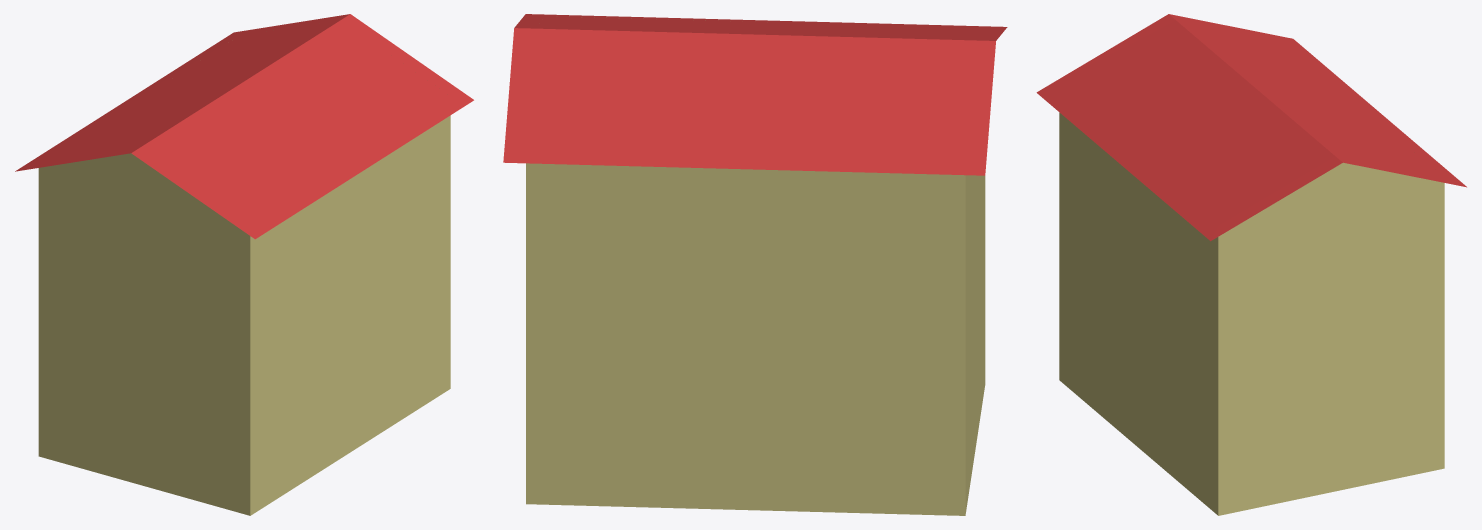
3 views of the same model, side by side, from view 1: azimuth 30°, elevation 25°; view 2: azimuth 150°, elevation 25°; view 3: azimuth 270°, elevation 25° (orthographic). The views are drawn at different scales.
Size of the model in its own units: 6.96 by 6.26 by 5.37.
